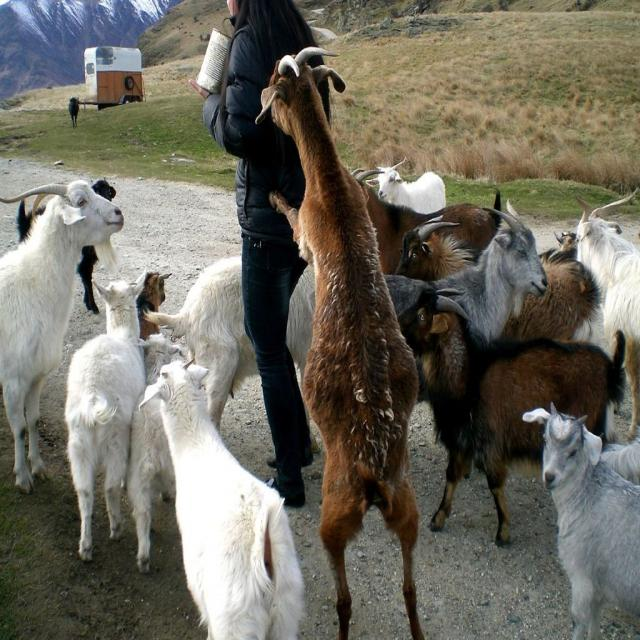Goat: (0, 46, 640, 640)
